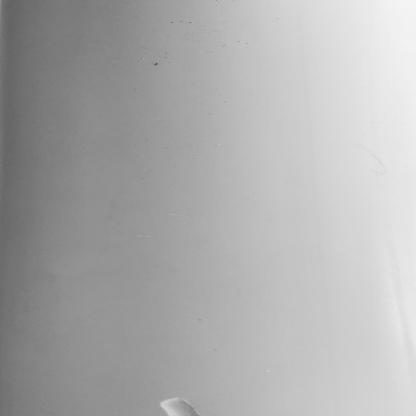sunshang: (153, 396, 200, 416)
